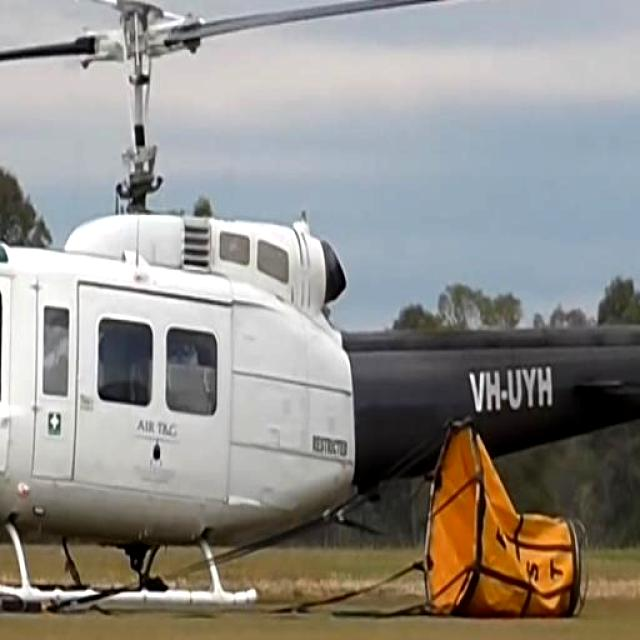drone: (0, 0, 640, 626)
